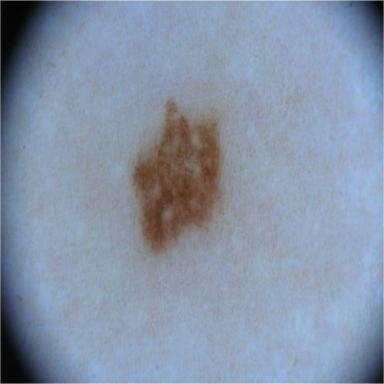nevus: (133, 100, 221, 252)
